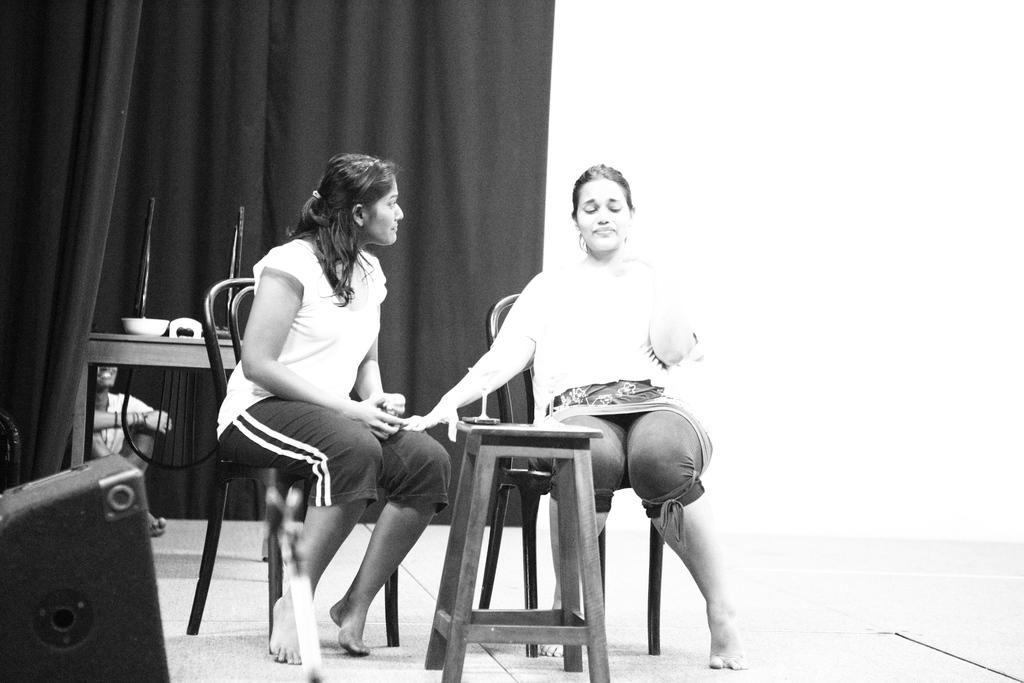Chair: (187, 277, 400, 649), (478, 293, 665, 658)
Luggage-and-bags: (0, 451, 170, 681)
